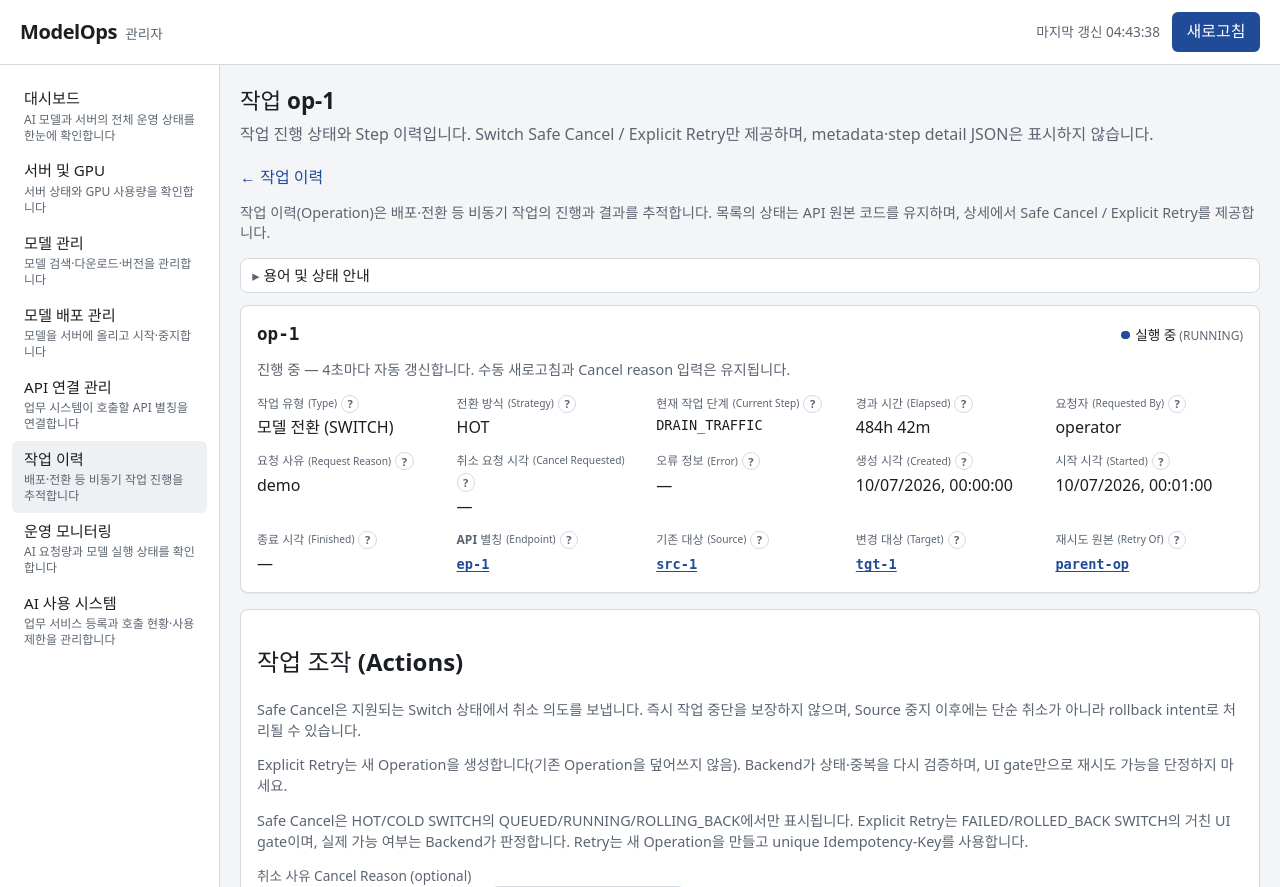
Scenario: OperationDetailPage › clears stale detail on authoritative 404 refresh
The width and height of the screenshot is (1280, 887).
Expected: the heading "op-1" is shown, 257,322 -> 299,348
Click the button "새로고침". click: x=1216, y=32
box: 1172,12 -> 1260,52
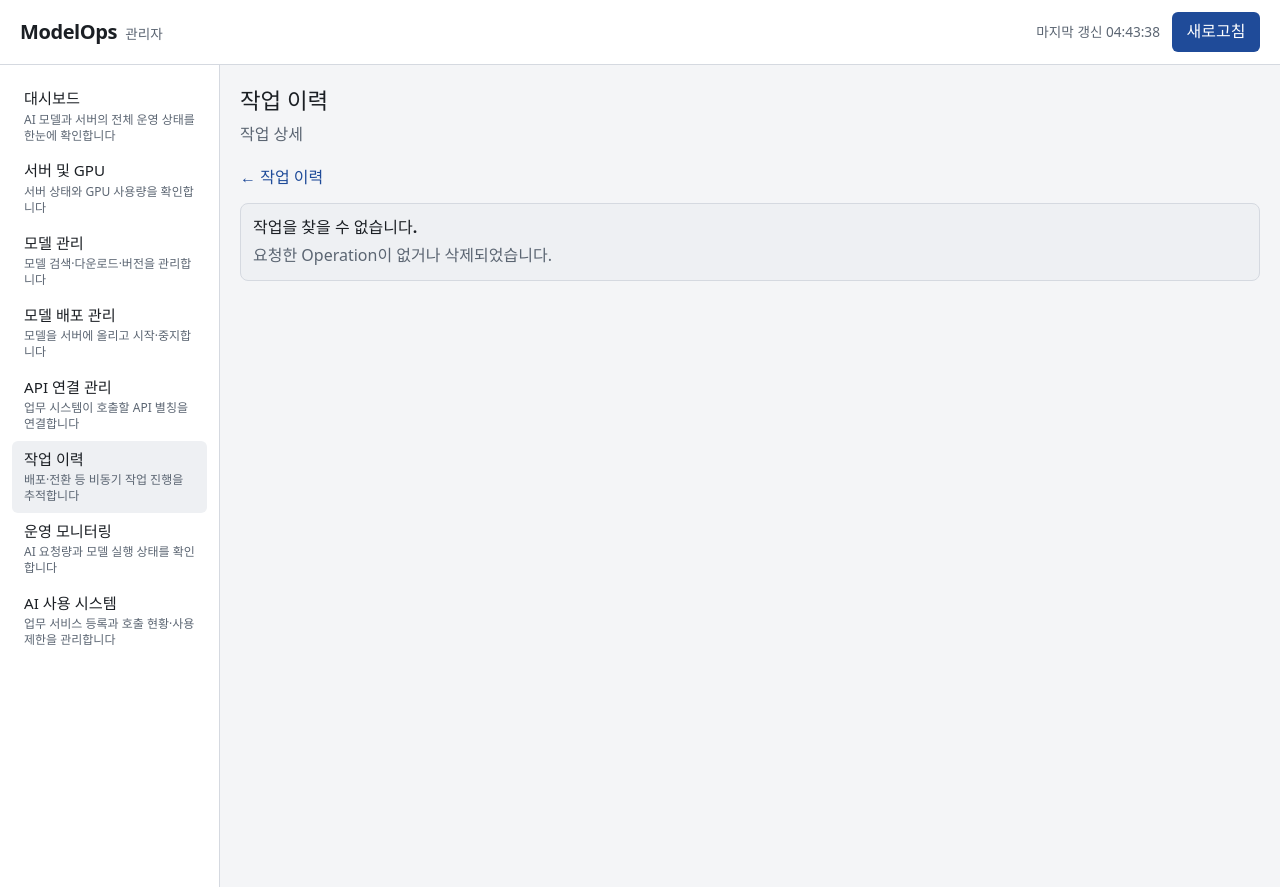
Expected: the text "작업을 찾을 수 없습니다." is shown, 253,216 -> 417,238
Expected: the heading "op-1" is gone
